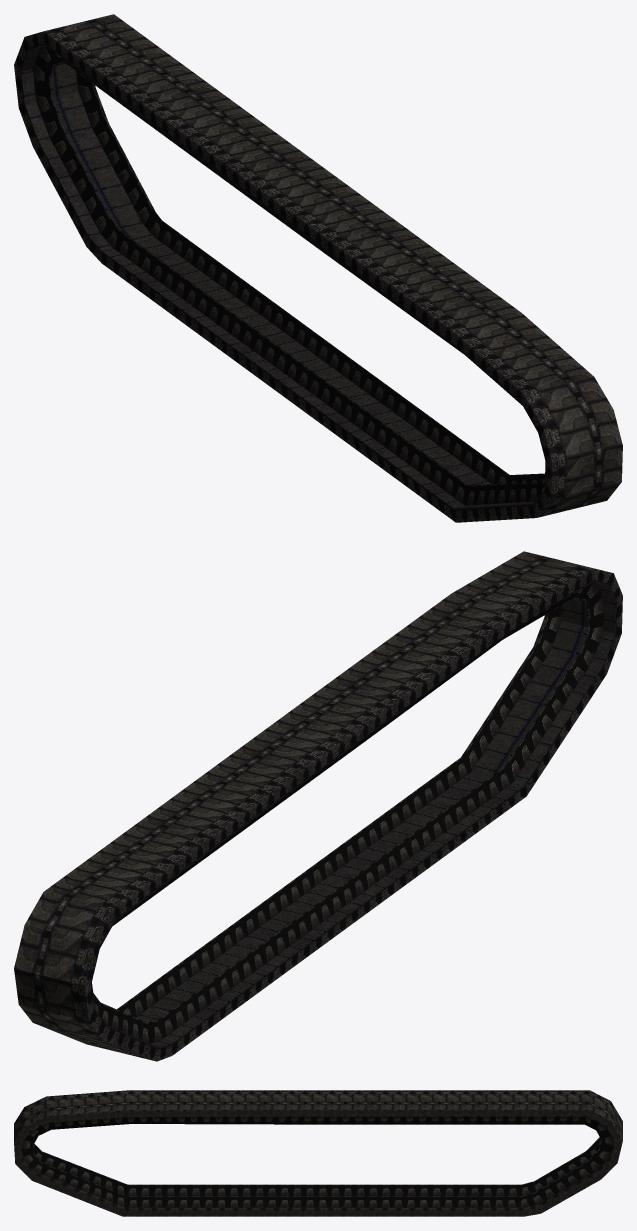
Rendered from M4_Track.gltf.
3 renders of one model, top to bottom at view 1: azimuth 30°, elevation 25°; view 2: azimuth 150°, elevation 25°; view 3: azimuth 270°, elevation 25°, orthographic. The views are drawn at different scales.
Visible parts, largest first — view 1: Track_Left; view 2: Track_Left; view 3: Track_Left.
Part boxes in pixels (x1,y1,x2,y2): Track_Left: [14, 14, 622, 522]; Track_Left: [14, 551, 622, 1061]; Track_Left: [14, 1090, 622, 1216].
Bounding box in the file's own units: 0.4244 × 1.09 × 5.61.
1 material, 1 textured.
